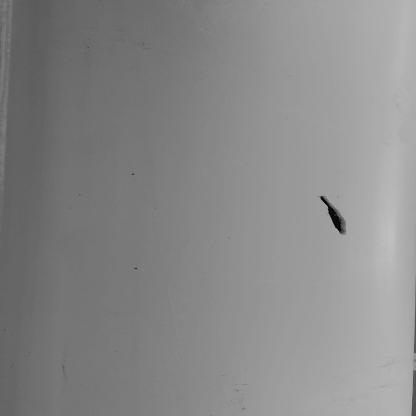kongdong: (319, 194, 352, 237)
